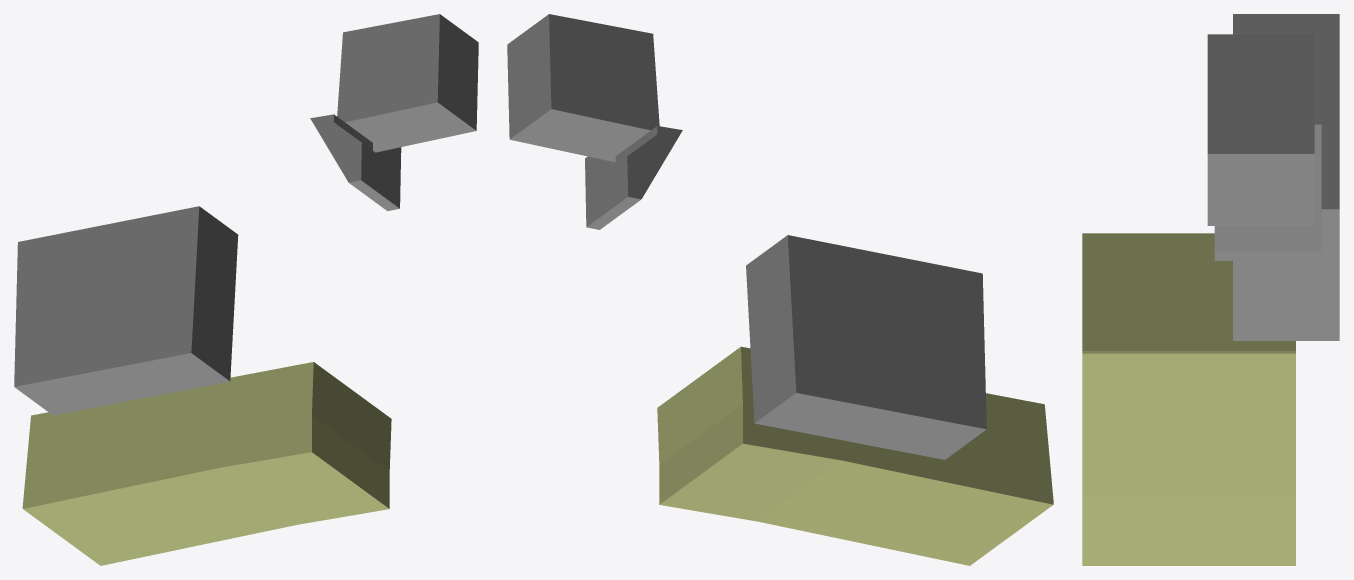
3 views of the same model, side by side, from view 1: azimuth 30°, elevation 25°; view 2: azimuth 150°, elevation 25°; view 3: azimuth 270°, elevation 25° (orthographic). The views are drawn at different scales.
Parts seen in each view (by area): view 1: 0_1_2_0_0_3_2_2_3_2; view 2: 0_1_2_0_0_3_2_2_3_2; view 3: 0_1_2_0_0_3_2_2_3_2.
Boxes of the visible parts, bbox=[...] form: 0_1_2_0_0_3_2_2_3_2: bbox=[14, 14, 478, 565]; 0_1_2_0_0_3_2_2_3_2: bbox=[507, 14, 1053, 565]; 0_1_2_0_0_3_2_2_3_2: bbox=[1082, 14, 1339, 565].
Size of the model in its own units: 18.87 by 17.25 by 7.23.
